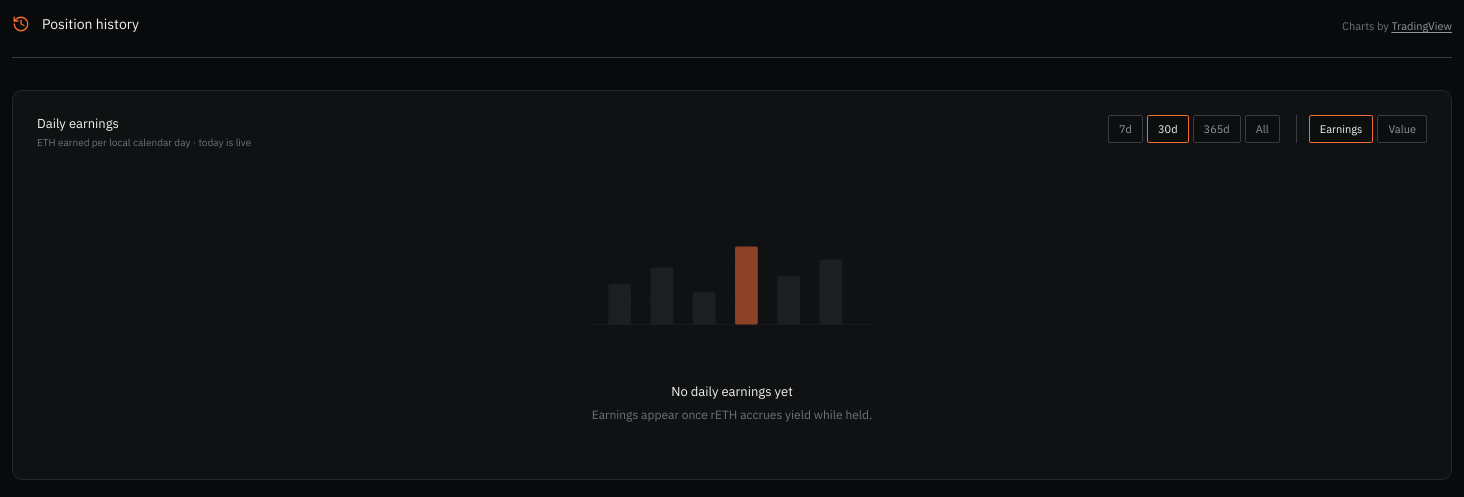
it: AnalyticsCharts empty states › shows the value empty state when the address never held rETH
This screenshot has width=1464, height=497.
Click the button "Value" at (1402, 129), box [1378,115,1427,143]
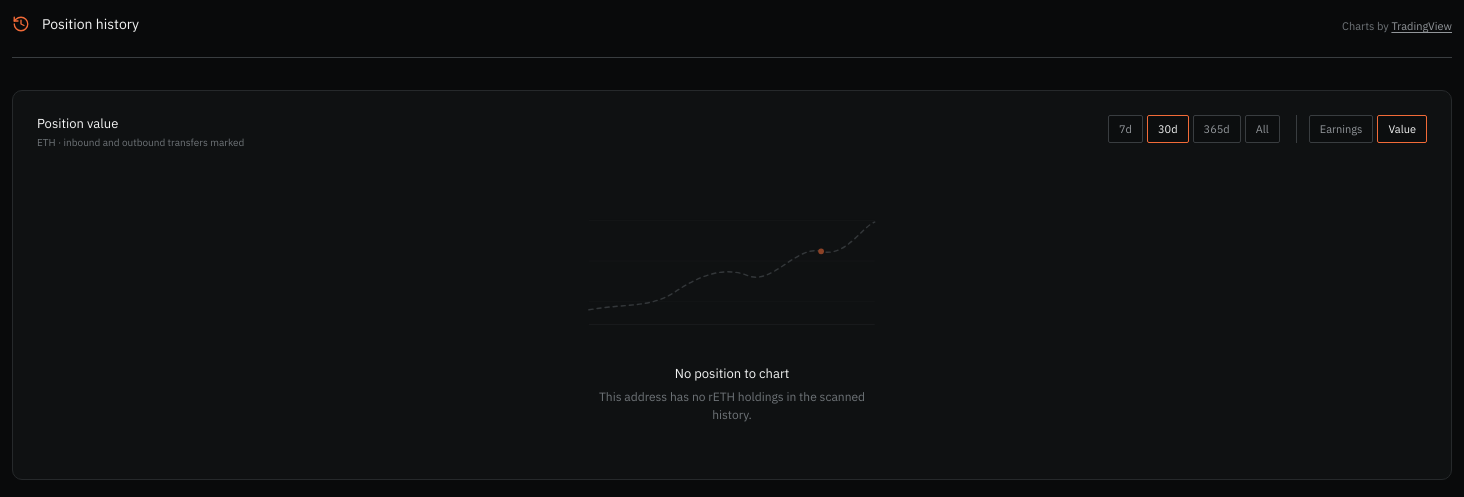
expect the message shows "No position to chart": met, box [675,365,789,382]
expect the text "This address has no rETH holdings in the scanned history." is shown: met, box [578,388,886,423]
